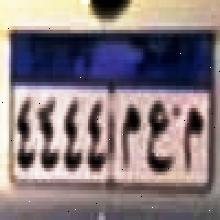4: (38, 96, 60, 177), (86, 98, 108, 176), (62, 97, 84, 171), (16, 96, 36, 173)
ain: (148, 96, 174, 177)
meem: (180, 102, 203, 177), (119, 100, 142, 170)
